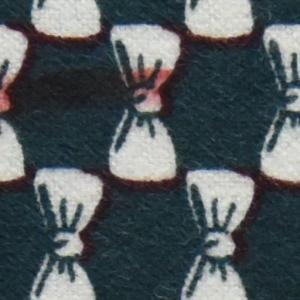Stain: (1, 63, 185, 122)
